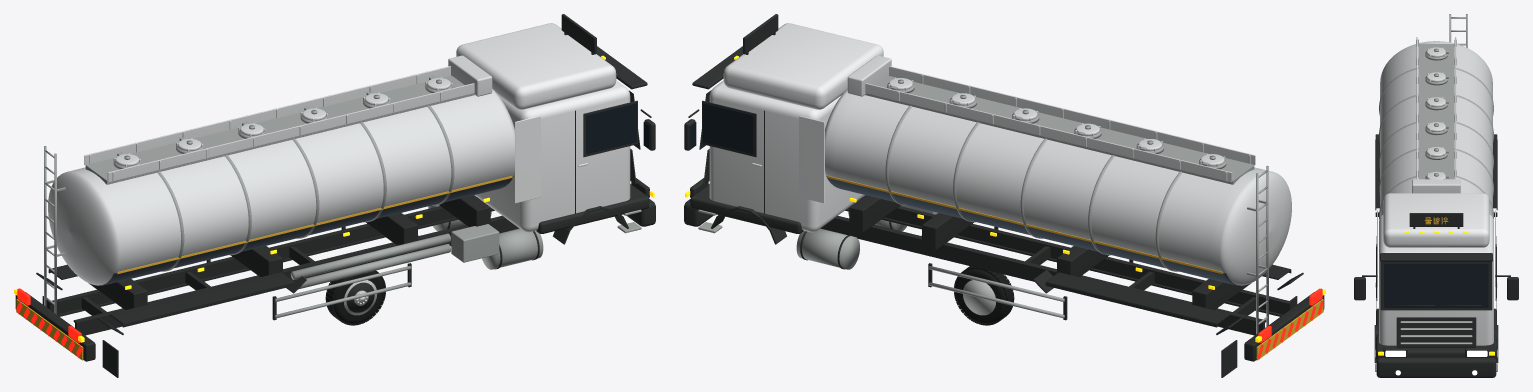
Rendered from tanker.glb.
3 renders of one model, left to right at view 1: azimuth 30°, elevation 25°; view 2: azimuth 150°, elevation 25°; view 3: azimuth 270°, elevation 25°, orthographic. The views are drawn at different scales.
Visible parts, largest first — view 1: tanker_body, tanker_wheel; view 2: tanker_body, tanker_wheel; view 3: tanker_body.
Boxes of the visible parts, x1,y1,x2,y2 form: tanker_body: (14, 14, 655, 377); tanker_wheel: (325, 270, 385, 325); tanker_body: (684, 14, 1325, 377); tanker_wheel: (954, 266, 1014, 325); tanker_body: (1354, 14, 1518, 377).
Size of the model in its own units: 11.06 by 4.45 by 3.36.
